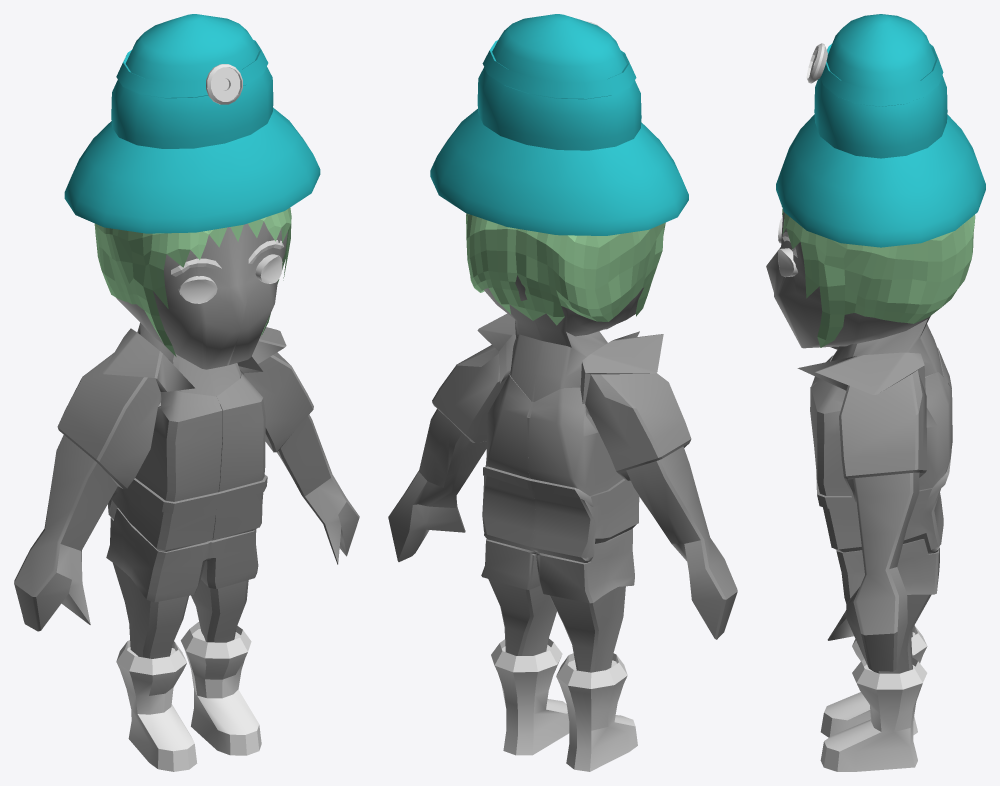
Rendered from PERSONAJE.FBX.
3 renders of one model, left to right at view 1: azimuth 30°, elevation 25°; view 2: azimuth 150°, elevation 25°; view 3: azimuth 270°, elevation 25°, orthographic.
Visible parts, largest first — view 1: Sphere001, Cylinder002, Cylinder001, Box001, Cylinder004, Cylinder003, Box002; view 2: Sphere001, Cylinder002, Box001, Cylinder001; view 3: Sphere001, Cylinder002, Box001, Cylinder001, Cylinder004, Cylinder003.
Boxes of the visible parts, x1,y1,x2,y2 form: Sphere001: (14,221,359,658); Cylinder002: (64,14,320,233); Cylinder001: (116,622,261,771); Box001: (94,208,291,356); Cylinder004: (178,254,282,303); Cylinder003: (206,64,242,104); Box002: (171,240,283,276); Sphere001: (388,275,737,672); Cylinder002: (430,14,688,235); Box001: (466,213,665,325); Cylinder001: (491,638,637,771); Sphere001: (766,212,952,673); Cylinder002: (776,14,985,247); Box001: (781,206,975,347); Cylinder001: (820,625,927,771); Cylinder004: (778,217,797,277); Cylinder003: (806,43,827,83).
Bounding box in the file's own units: 0.6441 × 1.33 × 0.3631.
